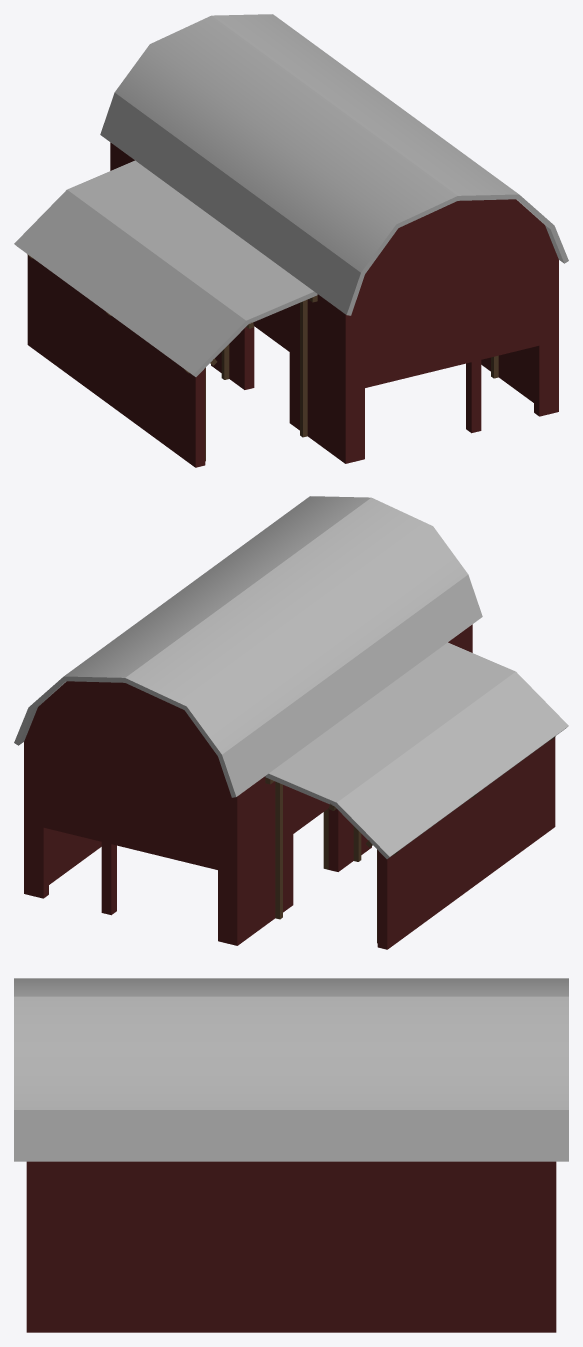
Rendered from MOD_Barn.fbx.
3 renders of one model, top to bottom at view 1: azimuth 30°, elevation 25°; view 2: azimuth 150°, elevation 25°; view 3: azimuth 270°, elevation 25°, orthographic. The views are drawn at different scales.
Visible parts, largest first — view 1: BarnCmbined_MultiMats_v1; view 2: BarnCmbined_MultiMats_v1; view 3: BarnCmbined_MultiMats_v1.
Part boxes in pixels (x1,y1,x2,y2): BarnCmbined_MultiMats_v1: [14, 14, 568, 467]; BarnCmbined_MultiMats_v1: [14, 496, 568, 949]; BarnCmbined_MultiMats_v1: [14, 978, 568, 1332].
Bounding box in the file's own units: 3529 × 2426 × 4400.
